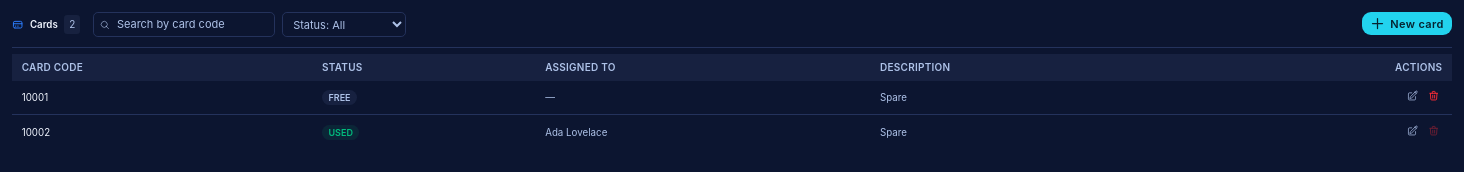
Test: the toolbar filters › narrows by card code without going back to the controller
Expected: the text "10001" is shown, [12,81,312,115]
In the field with placeholder "Search by card code": (184, 24) [93,12,275,37], type "10002"
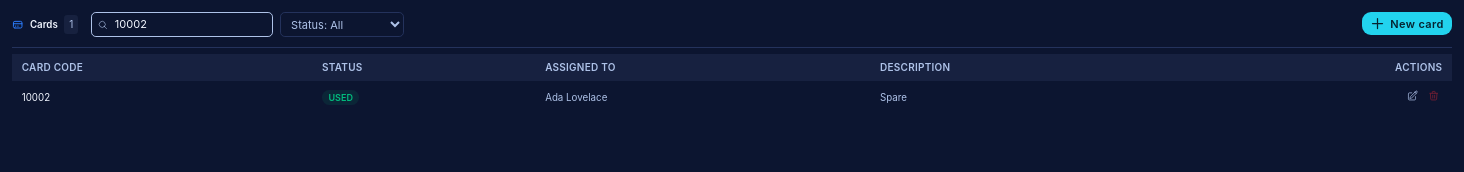
Expected: the text "10002" is shown, [12,81,312,114]
Expected: the text "10001" is gone
